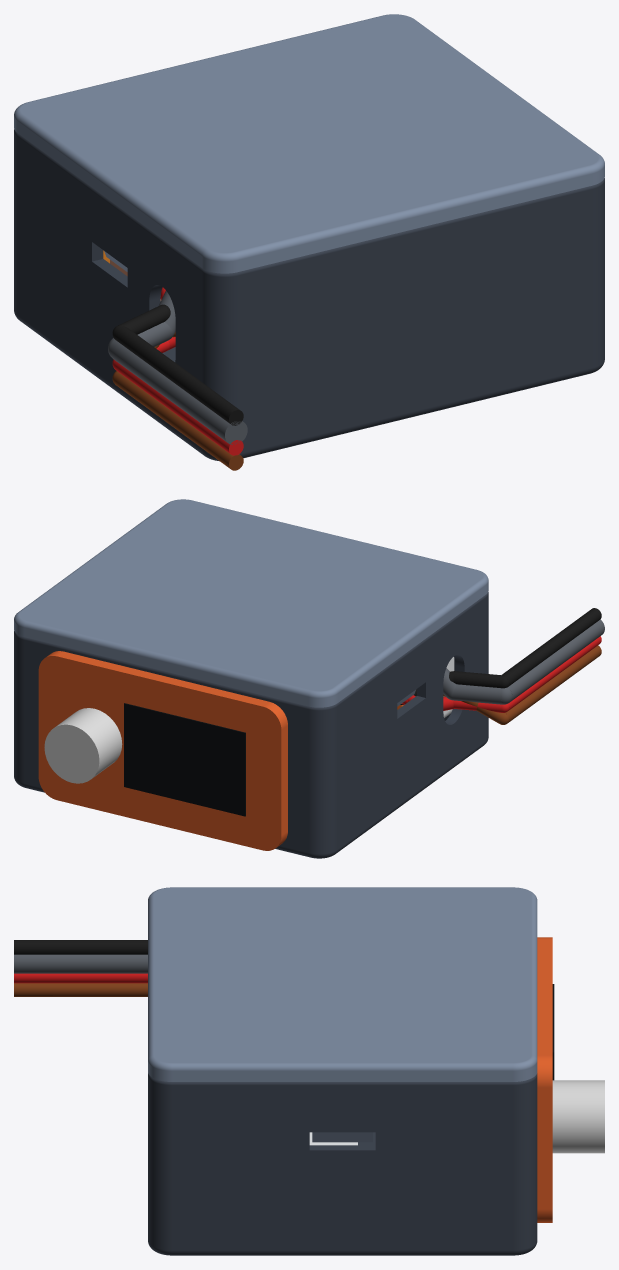
File: wrangler_air_box.glb
3 views of the same model, one above another, from view 1: azimuth 30°, elevation 25°; view 2: azimuth 150°, elevation 25°; view 3: azimuth 270°, elevation 25° (orthographic). The views are drawn at different scales.
Parts seen in each view (by area): view 1: box_body, box_cover, sensor_cable_4core, car_GND_black_1.5, to_K2_86_via_D1_brown_1.5, car_12V_AUX1_red_1.5; view 2: box_cover, box_body, bezel, screen, knob, sensor_cable_4core, car_GND_black_1.5, to_K2_86_via_D1_brown_1.5, car_12V_AUX1_red_1.5; view 3: box_cover, box_body, bezel, knob, sensor_cable_4core, car_GND_black_1.5, to_K2_86_via_D1_brown_1.5, car_12V_AUX1_red_1.5.
Boxes of the visible parts, x1,y1,x2,y2 form: box_body: (14,129,604,461); box_cover: (14,14,604,273); sensor_cable_4core: (108,291,247,444); car_GND_black_1.5: (112,304,243,425); to_K2_86_via_D1_brown_1.5: (112,332,243,470); car_12V_AUX1_red_1.5: (112,287,243,455); box_cover: (14,499,488,707); box_body: (14,592,488,858); bezel: (38,651,287,850); screen: (124,703,245,816); knob: (44,708,122,783); sensor_cable_4core: (443,619,604,704); car_GND_black_1.5: (400,608,601,704); to_K2_86_via_D1_brown_1.5: (443,645,601,724); car_12V_AUX1_red_1.5: (407,636,601,712); box_cover: (148,887,537,1142); box_body: (148,1073,537,1255); bezel: (537,937,552,1222); knob: (552,1080,604,1153); sensor_cable_4core: (14,954,147,973); car_GND_black_1.5: (14,940,147,954); to_K2_86_via_D1_brown_1.5: (14,983,147,996); car_12V_AUX1_red_1.5: (14,973,147,983).
Bounding box in the file's own units: 81 × 35 × 97.1.
